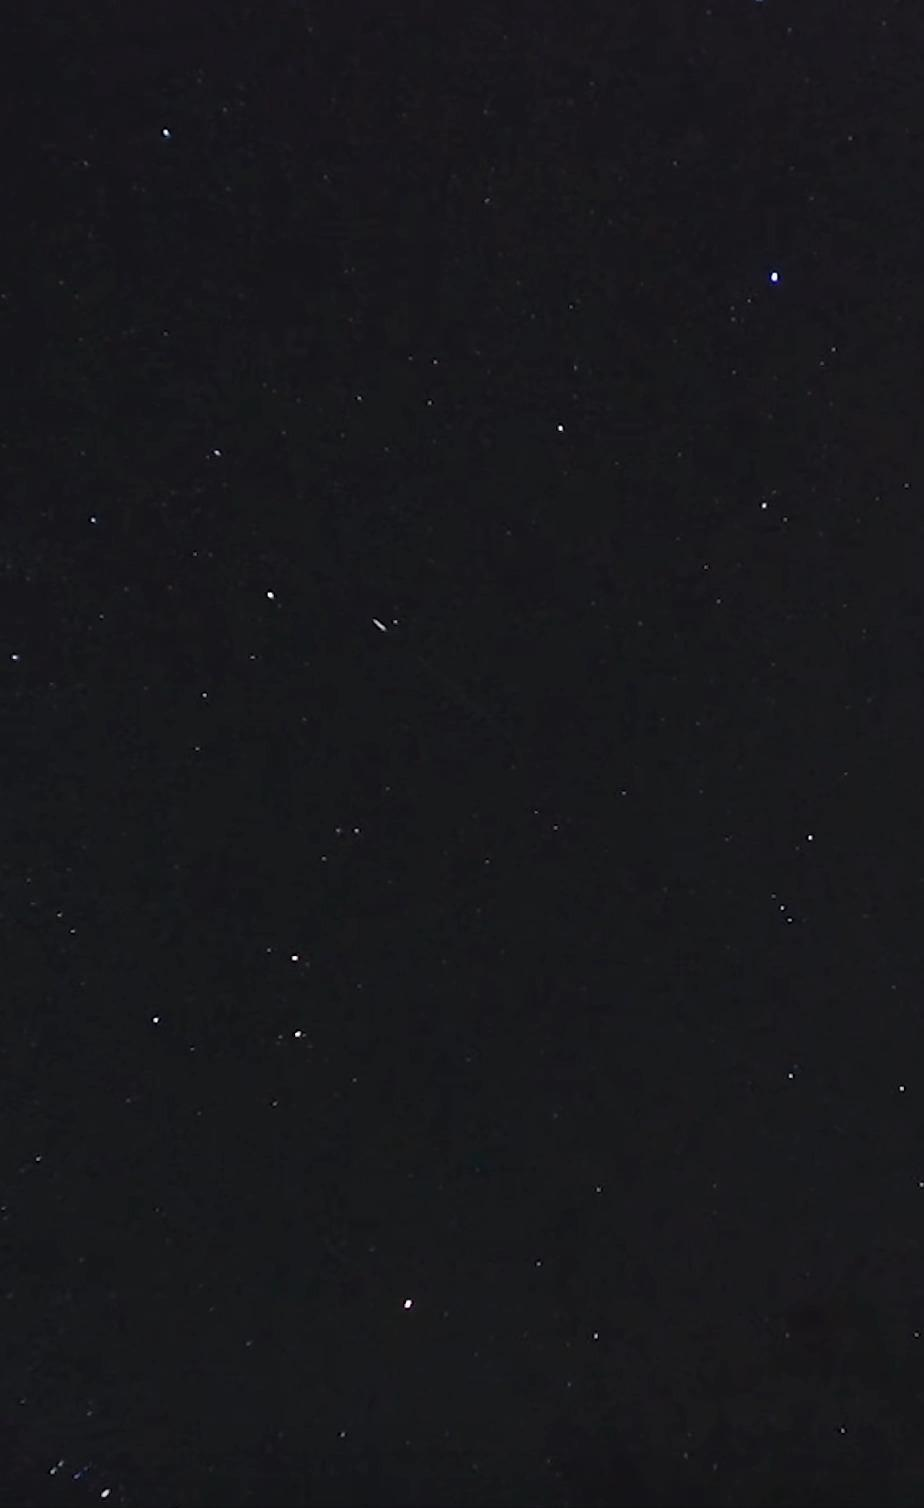meteorite: (358, 600, 405, 651)
